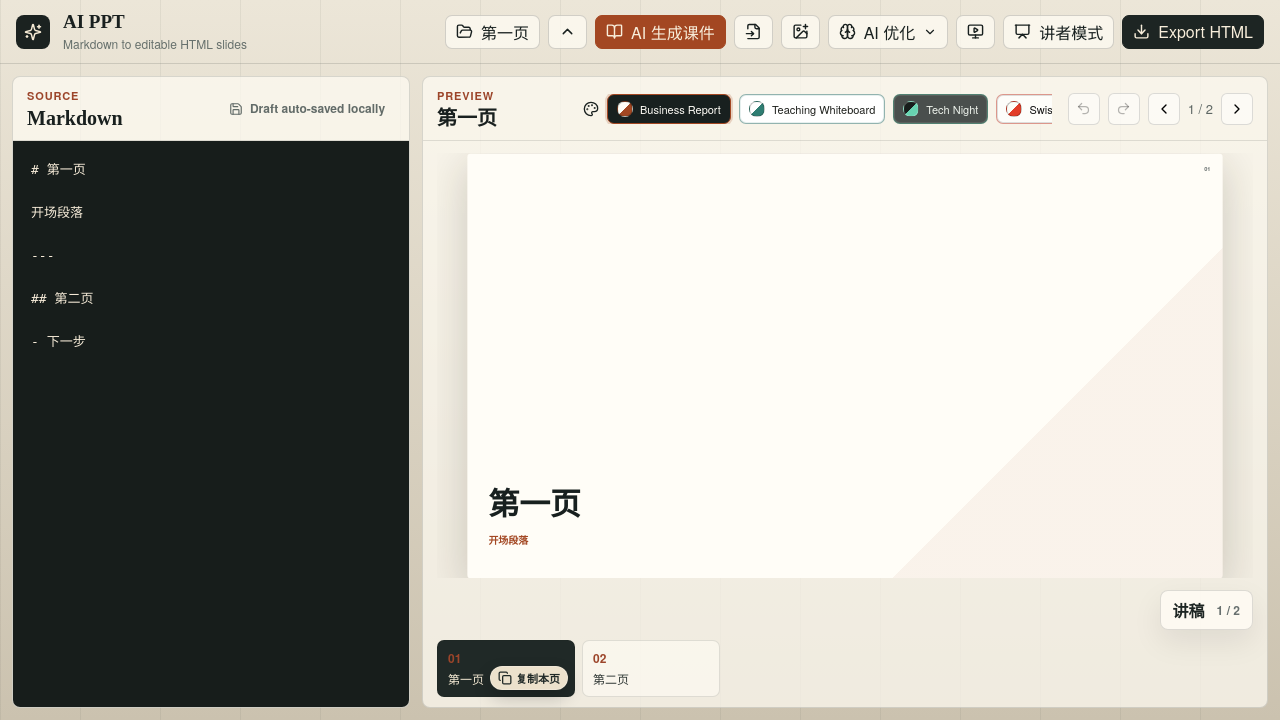
App image insertion controls › opens a separate audience window and shows presenter notes in speaker mode
This screenshot has width=1280, height=720.
Click the button with test id "speaker-mode": [1059, 32] box [1003, 14, 1114, 48]
Wait 3000 ms
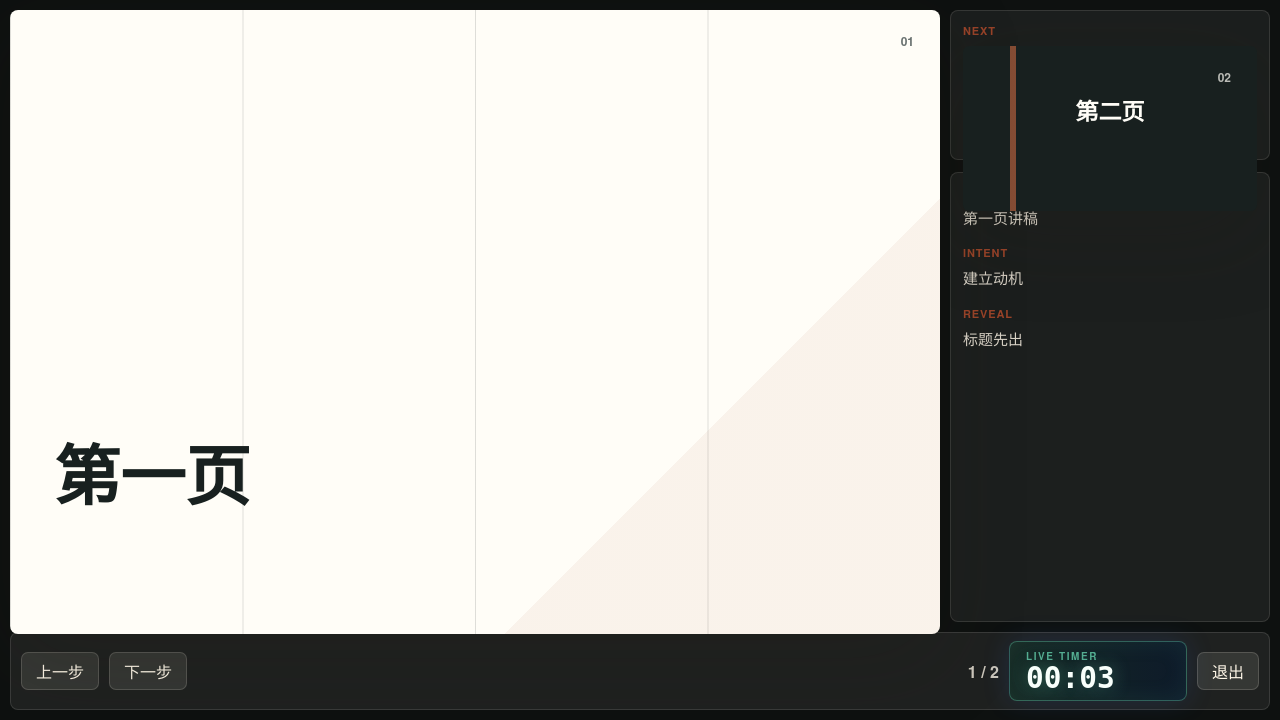
Check: the dialog with test id "presenter-console" is shown
Check: the element with test id "presenter-timer" shows "LIVE TIMER", box [1026, 649, 1098, 663]
Check: the text with test id "presenter-speaker-note" reads "第一页讲稿", box [963, 207, 1038, 228]
Click the button with test id "presenter-next-step": [148, 671] box [109, 652, 187, 690]
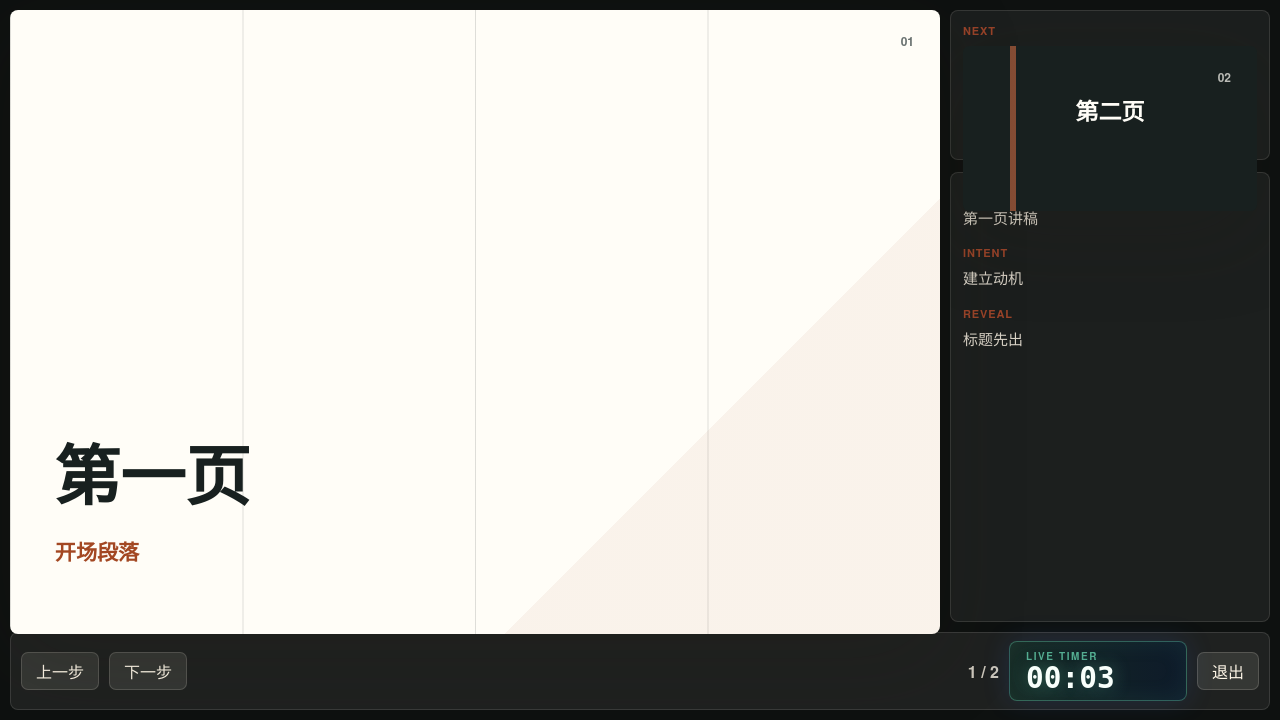
Click the button with test id "presenter-next-step": [148, 671] box [109, 652, 187, 690]
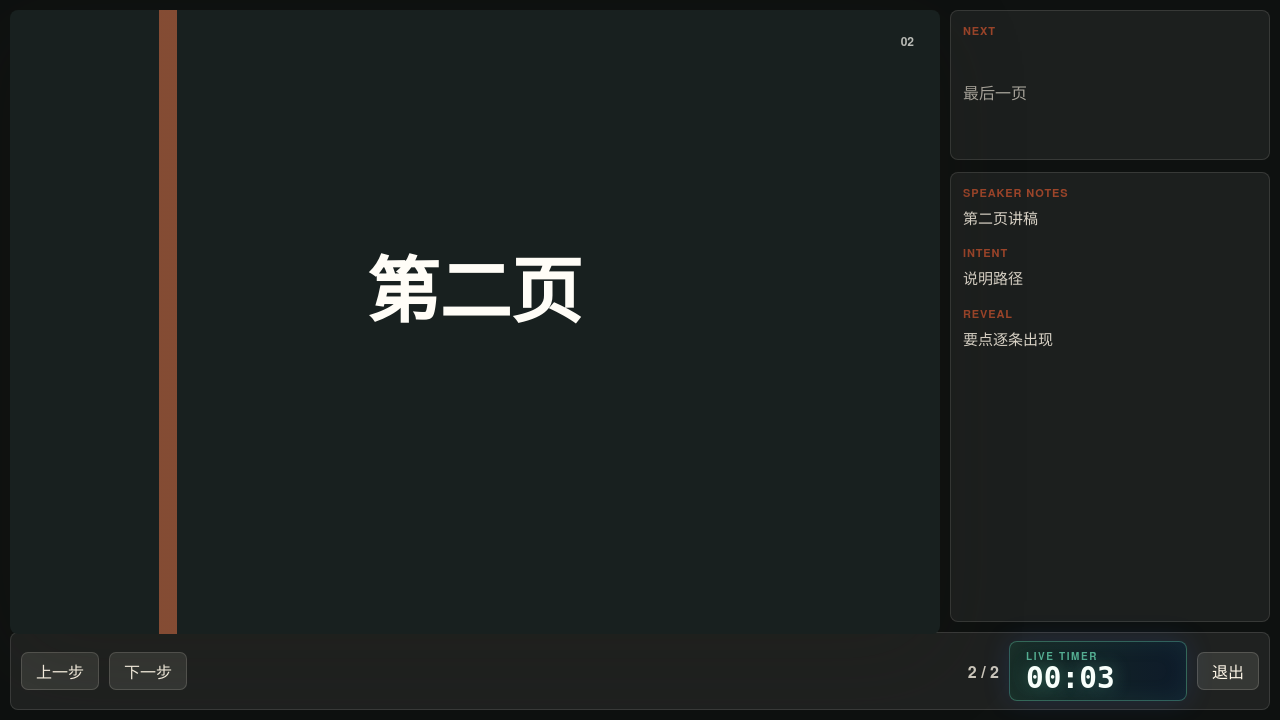
Check: the text with test id "presenter-speaker-note" reads "第二页讲稿", box [963, 207, 1038, 228]
Click the button with test id "exit-speaker-mode": [1228, 671] box [1197, 652, 1259, 690]
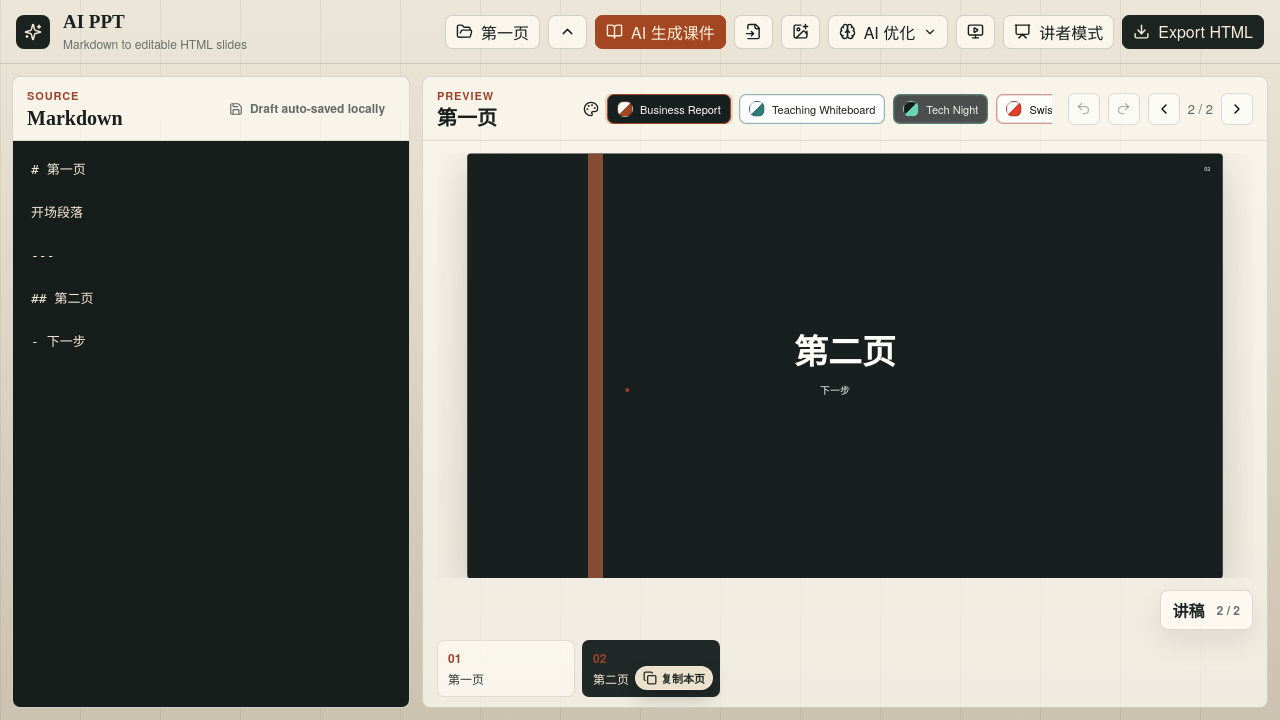
Check: the dialog with test id "presenter-console" is gone
